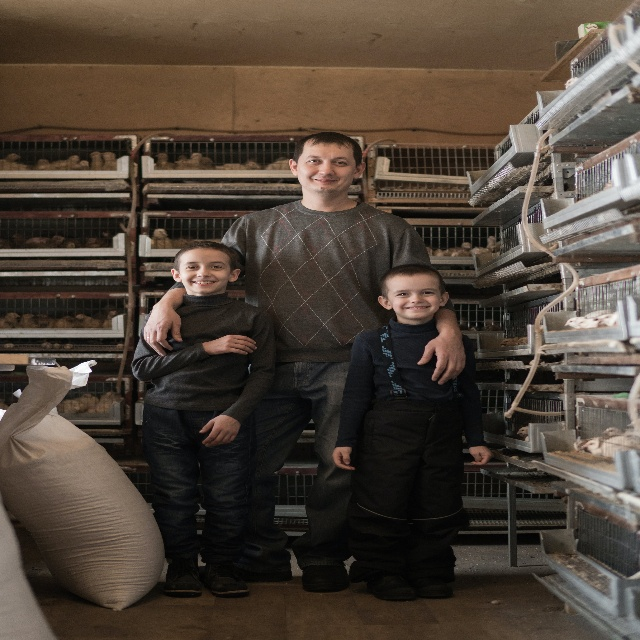Sin_guantes: (417, 327, 466, 384), (144, 303, 182, 357), (198, 414, 241, 447), (212, 332, 258, 357), (469, 444, 494, 468), (331, 447, 355, 470)
